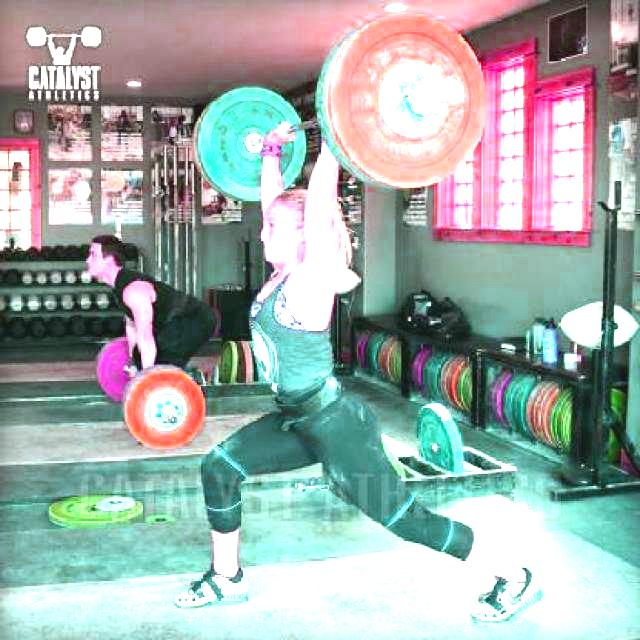barbell: (311, 8, 509, 202), (187, 79, 312, 212), (115, 364, 208, 455)
